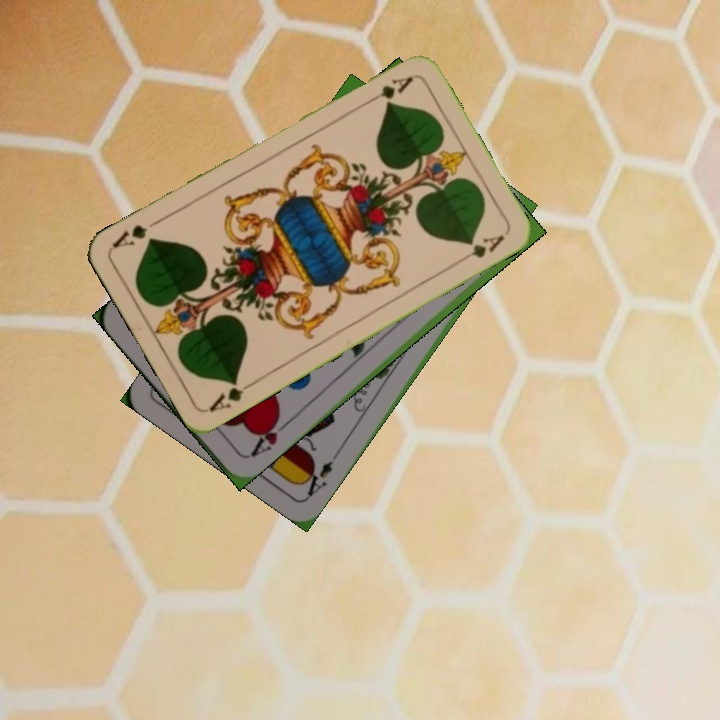EA: (298, 457, 335, 500)
GA: (205, 376, 258, 415), (362, 72, 416, 107)
HA: (243, 410, 292, 461)
